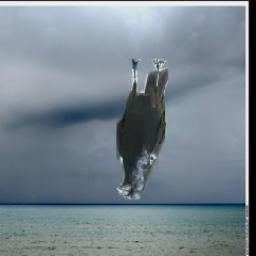Crow: (117, 59, 169, 199)
